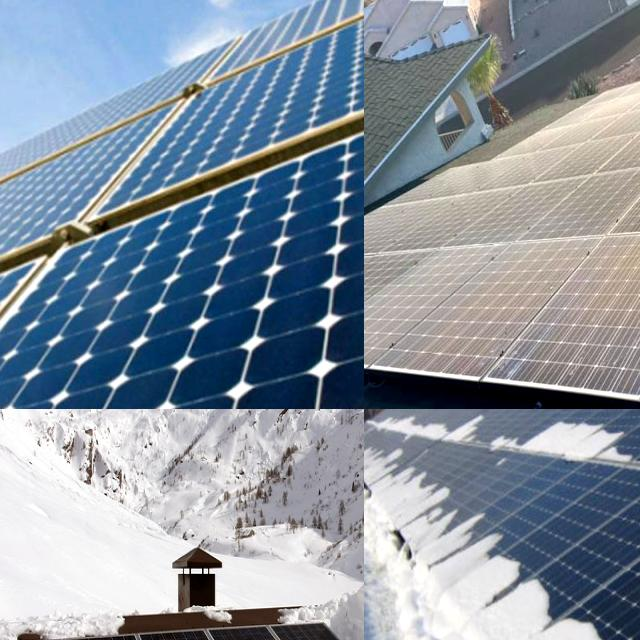crack: (0, 85, 364, 409)
dust: (364, 246, 474, 353), (486, 238, 570, 368), (586, 236, 640, 392), (408, 196, 558, 236), (588, 94, 640, 165), (510, 142, 580, 184), (583, 187, 640, 235), (364, 265, 393, 349), (456, 156, 506, 194), (364, 214, 395, 245)
panel: (364, 492, 440, 640), (451, 511, 523, 609), (531, 564, 616, 640), (534, 412, 633, 472), (45, 585, 125, 640), (399, 454, 445, 516), (436, 412, 488, 450), (277, 610, 340, 640), (484, 421, 532, 456), (382, 410, 430, 440), (364, 429, 388, 481), (0, 627, 35, 640)
